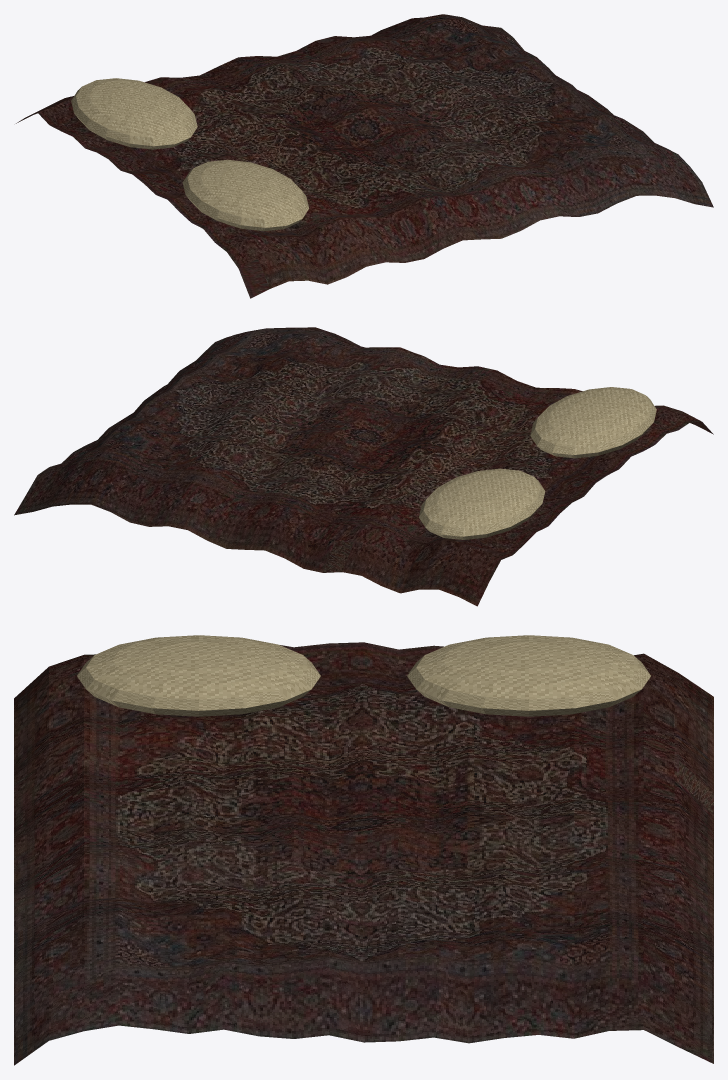
The model's file is level_bedding_double.glb.
3 views of the same model, one above another, from view 1: azimuth 30°, elevation 25°; view 2: azimuth 150°, elevation 25°; view 3: azimuth 270°, elevation 25° (orthographic). The views are drawn at different scales.
Parts seen in each view (by area): view 1: level_bedding_double; view 2: level_bedding_double; view 3: level_bedding_double.
Part boxes in pixels (left/top/right/bottom): level_bedding_double: left=16, top=14, right=713, bottom=298; level_bedding_double: left=14, top=327, right=713, bottom=606; level_bedding_double: left=14, top=635, right=713, bottom=1065.
Bounding box in the file's own units: 2.4 × 0.3984 × 2.12.
Materials: 2 (2 with a texture image).
